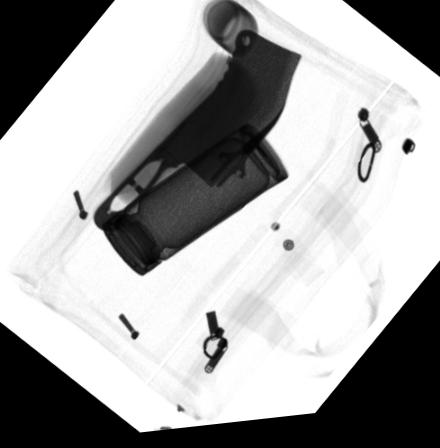Knife: (93, 32, 301, 232)
Scissors: (184, 109, 284, 217)
